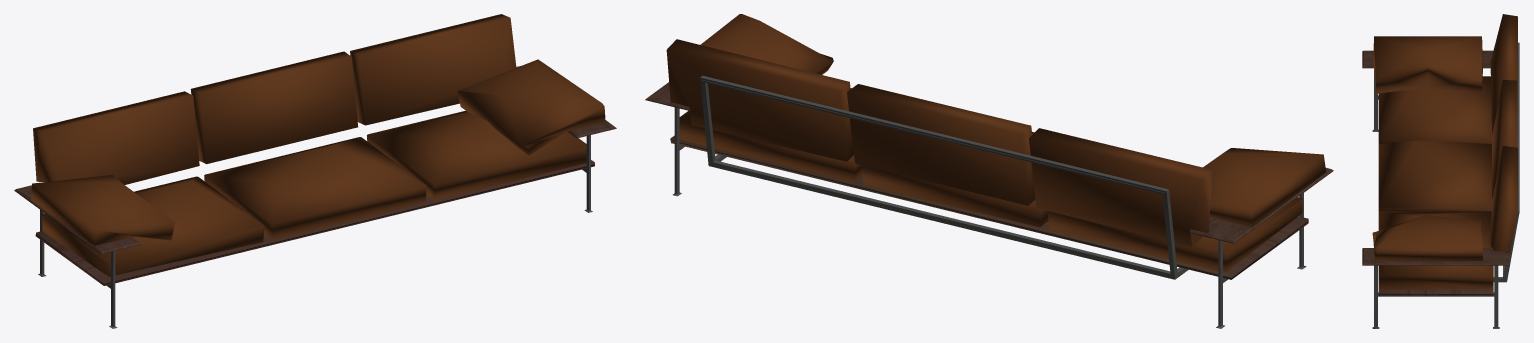
File: sofa-luxury.lod1.glb
3 renders of one model, left to right at view 1: azimuth 30°, elevation 25°; view 2: azimuth 150°, elevation 25°; view 3: azimuth 270°, elevation 25°, orthographic. The views are drawn at different scales.
Visible parts, largest first — view 1: Object_2; view 2: Object_2; view 3: Object_2.
Part boxes in pixels (x1,y1,x2,y2): Object_2: (14, 14, 616, 328); Object_2: (645, 14, 1333, 328); Object_2: (1362, 14, 1519, 328).
Size of the model in its own units: 2.58 by 0.6667 by 0.8042.
1 material, 1 textured.
